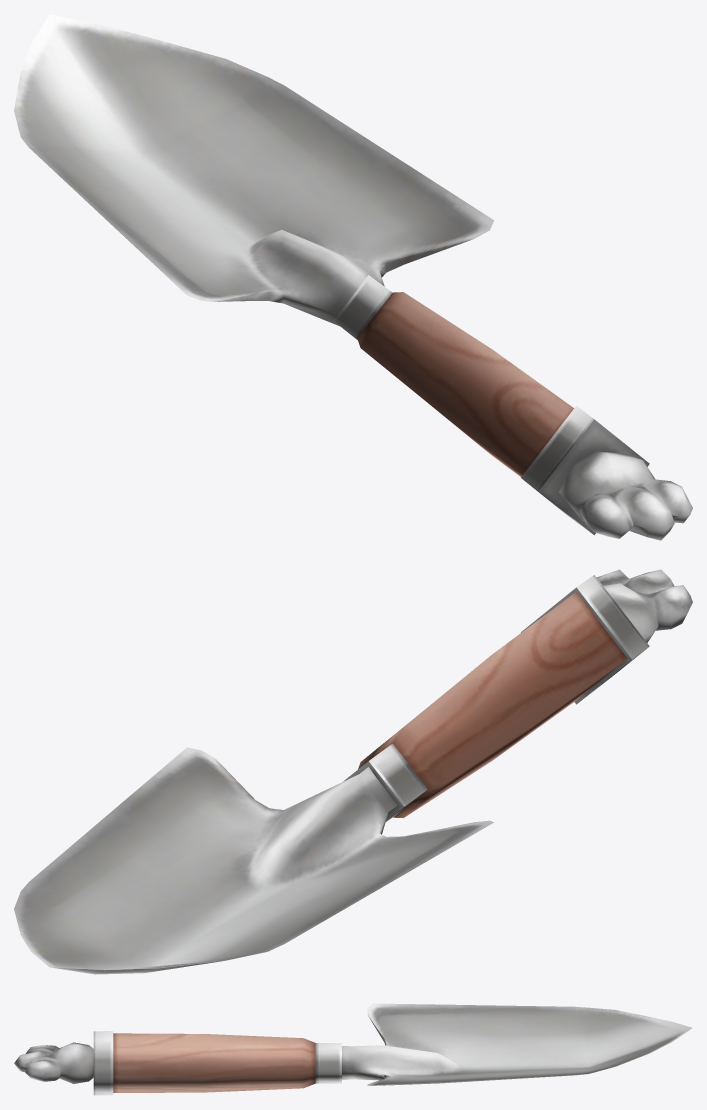
The picture shows the model from 3 angles, top to bottom: view 1: azimuth 30°, elevation 25°; view 2: azimuth 150°, elevation 25°; view 3: azimuth 270°, elevation 25°; orthographic projection. The views are drawn at different scales.
Visible parts, largest first — view 1: mSaya; view 2: mSaya; view 3: mSaya.
Boxes of the visible parts, left/top/right/bottom form: mSaya: left=14, top=14, right=692, bottom=540; mSaya: left=14, top=569, right=692, bottom=974; mSaya: left=14, top=1003, right=692, bottom=1095.
Bounding box in the file's own units: 0.1125 × 0.043 × 0.3913.
